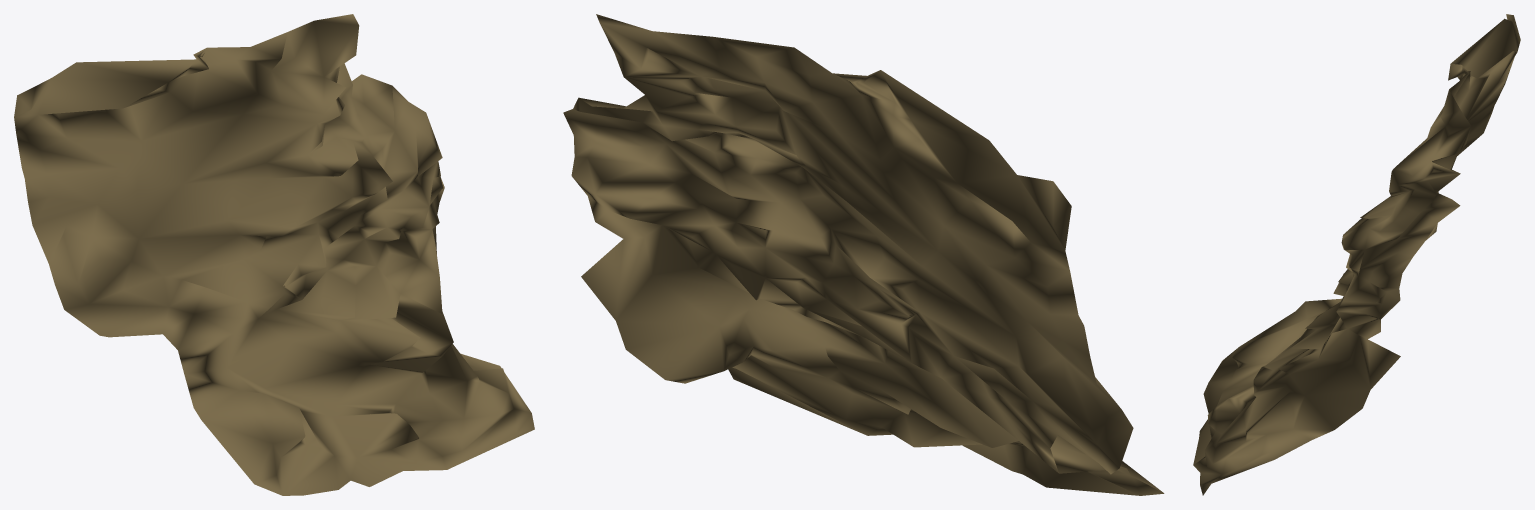
The model's file is rock_face_02-lod2.glb.
The picture shows the model from 3 angles, left to right: view 1: azimuth 30°, elevation 25°; view 2: azimuth 150°, elevation 25°; view 3: azimuth 270°, elevation 25°; orthographic projection. The views are drawn at different scales.
Visible parts, largest first — view 1: rock_face_02; view 2: rock_face_02; view 3: rock_face_02.
Part boxes in pixels (x1,y1,x2,y2): rock_face_02: [14, 14, 534, 495]; rock_face_02: [563, 14, 1164, 495]; rock_face_02: [1193, 14, 1520, 495].
Size of the model in its own units: 2.7 by 2.47 by 2.13.
